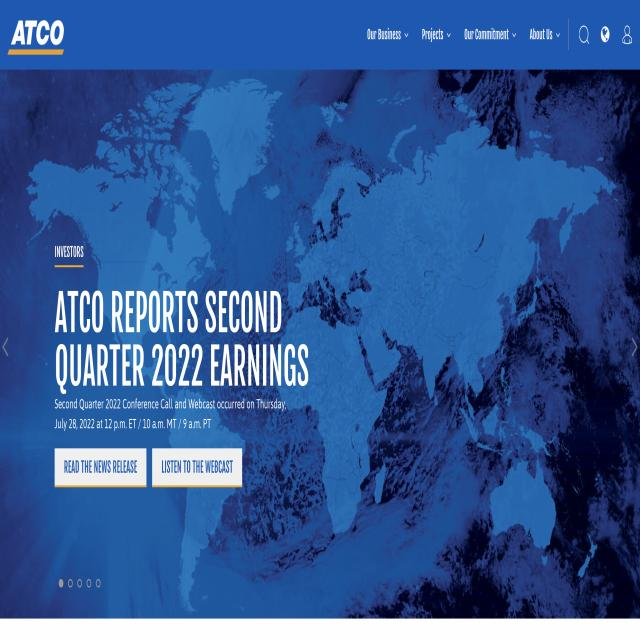Logo: (5, 9, 70, 57)
Navigation: (356, 10, 572, 56)
